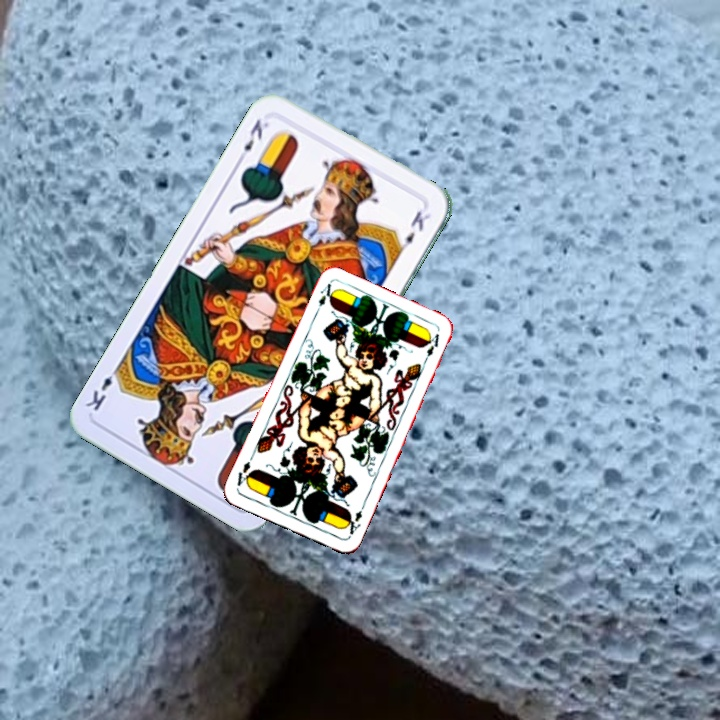EA: (311, 279, 335, 318), (341, 506, 365, 539)
EK: (234, 115, 271, 165)
